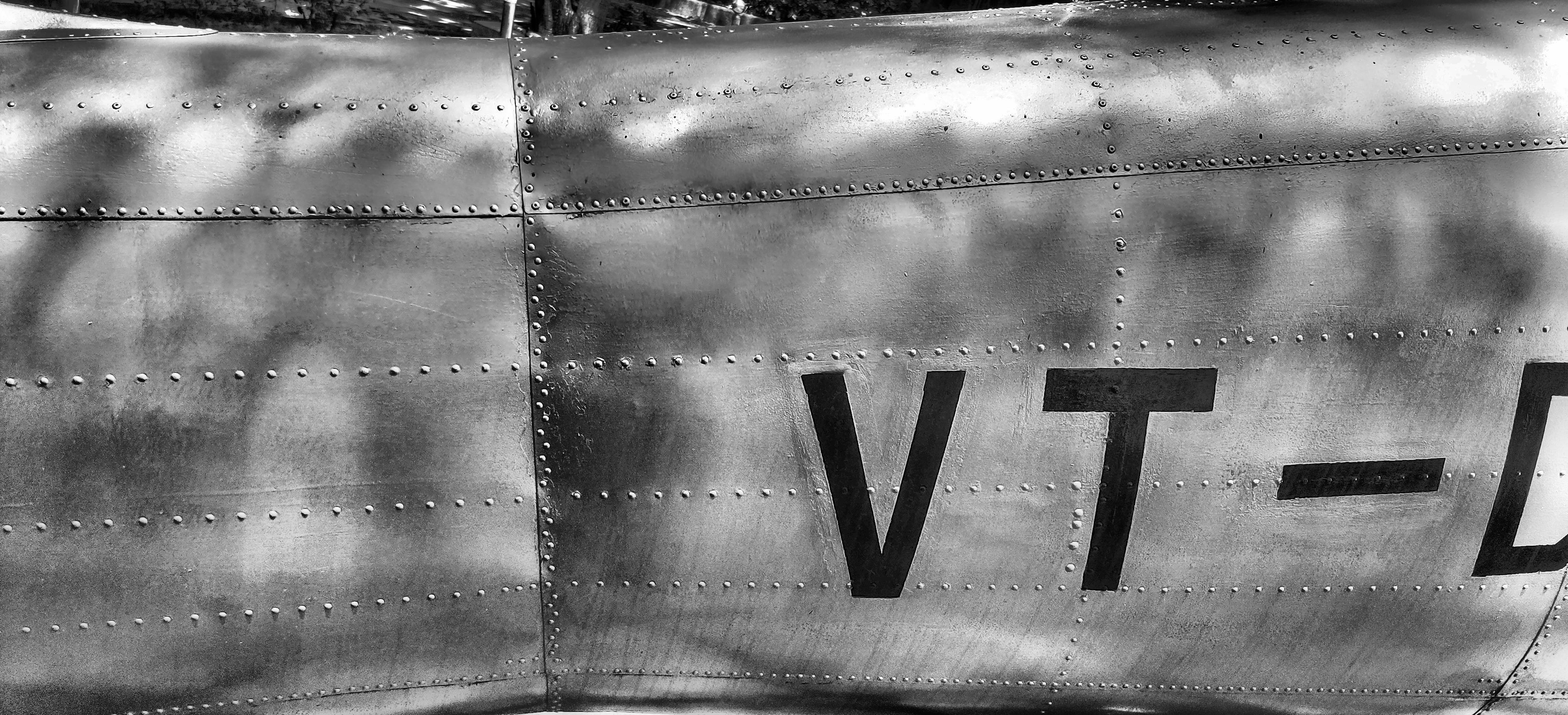missing-head: (531, 172, 536, 178)
